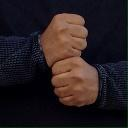hand: (40, 13, 88, 66), (52, 58, 98, 107)
